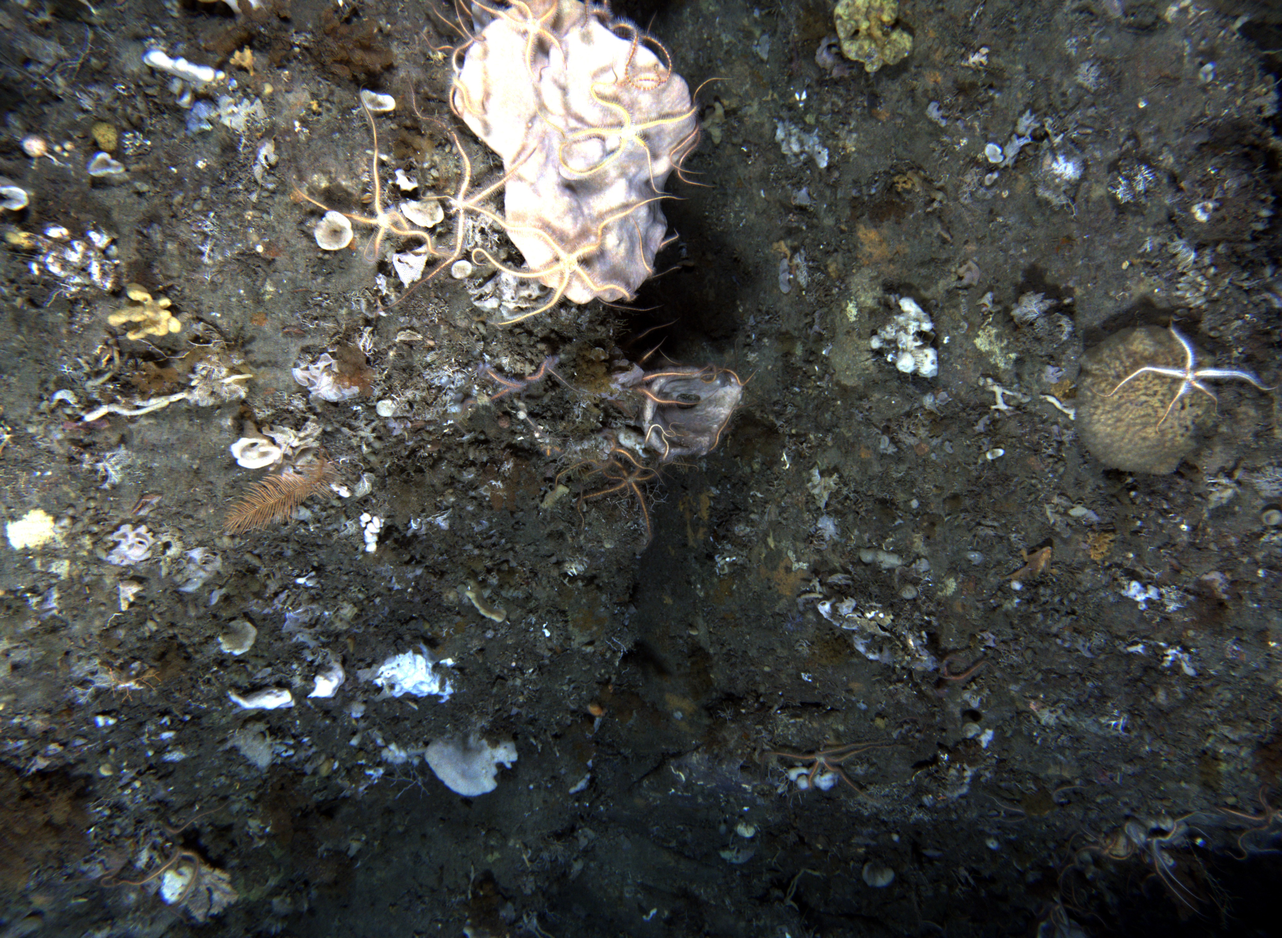Brachionichthyidae: (997, 544, 1063, 582)
